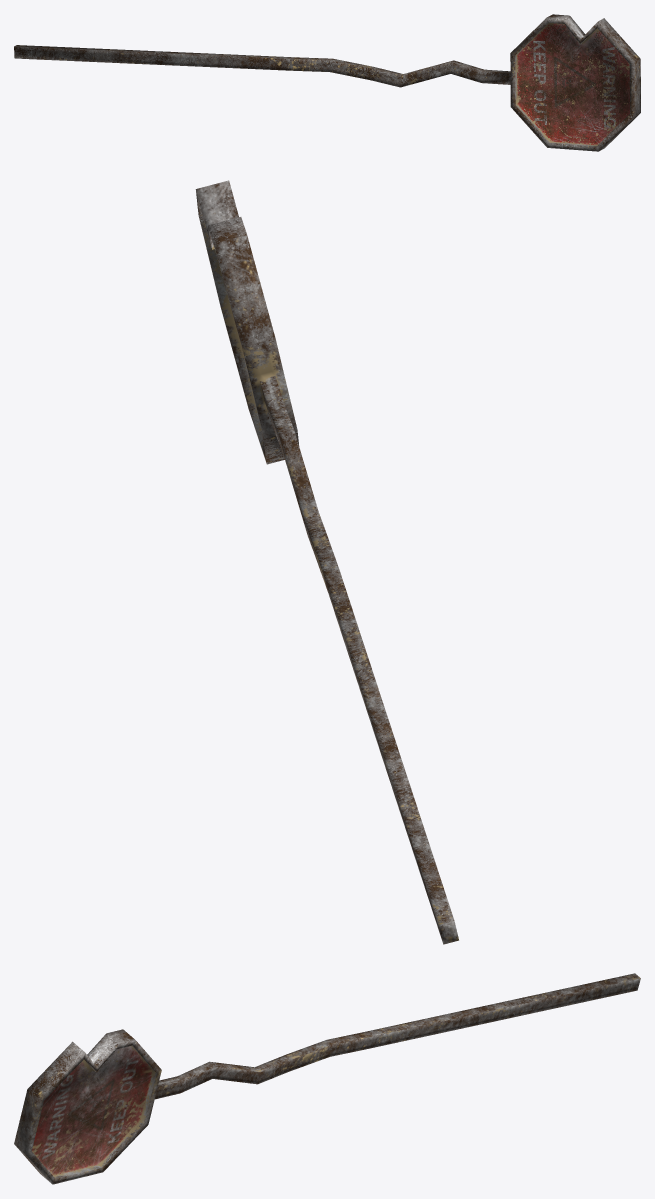
Rendered from Anim_idle_senyal_objetos.0046.obj.
3 renders of one model, top to bottom at view 1: azimuth 30°, elevation 25°; view 2: azimuth 150°, elevation 25°; view 3: azimuth 270°, elevation 25°, orthographic. The views are drawn at different scales.
Size of the model in its own units: 8.2 by 2.59 by 9.86.
